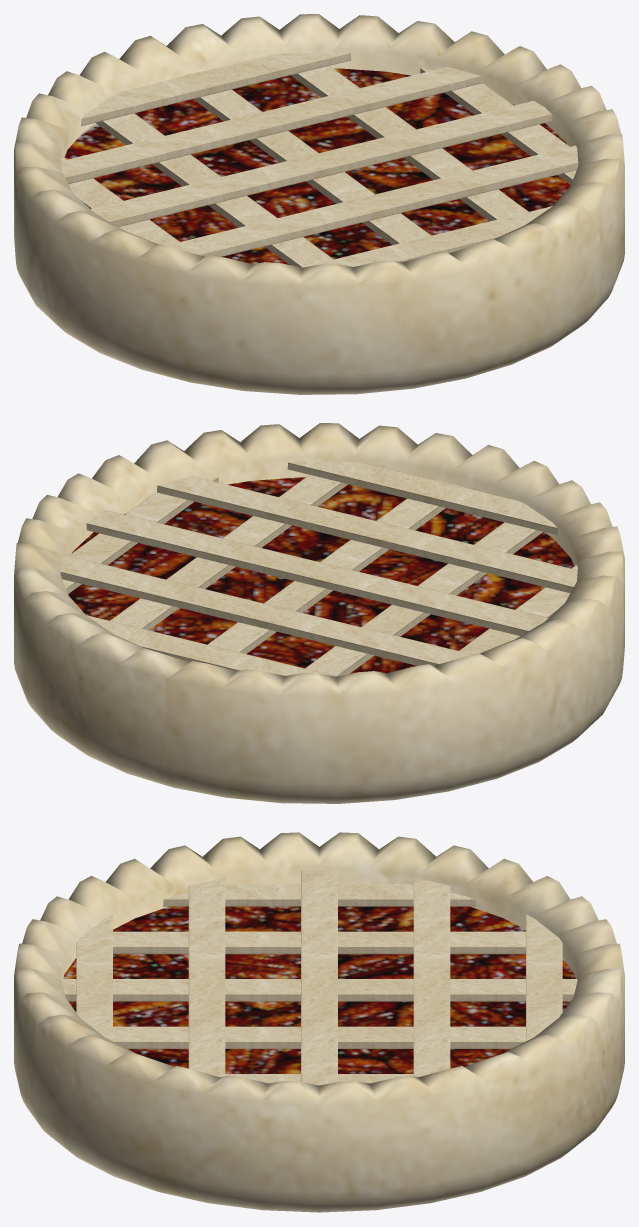
File: VFX_WholePieLattice.fbx
3 renders of one model, top to bottom at view 1: azimuth 30°, elevation 25°; view 2: azimuth 150°, elevation 25°; view 3: azimuth 270°, elevation 25°, orthographic.
Parts seen in each view (by area): view 1: Pie Whole Lattice; view 2: Pie Whole Lattice; view 3: Pie Whole Lattice.
Part boxes in pixels (bbox=[...]): Pie Whole Lattice: bbox=[14, 14, 624, 394]; Pie Whole Lattice: bbox=[14, 423, 624, 803]; Pie Whole Lattice: bbox=[14, 832, 624, 1212].
Size of the model in its own units: 0.2159 by 0.0516 by 0.2159.
